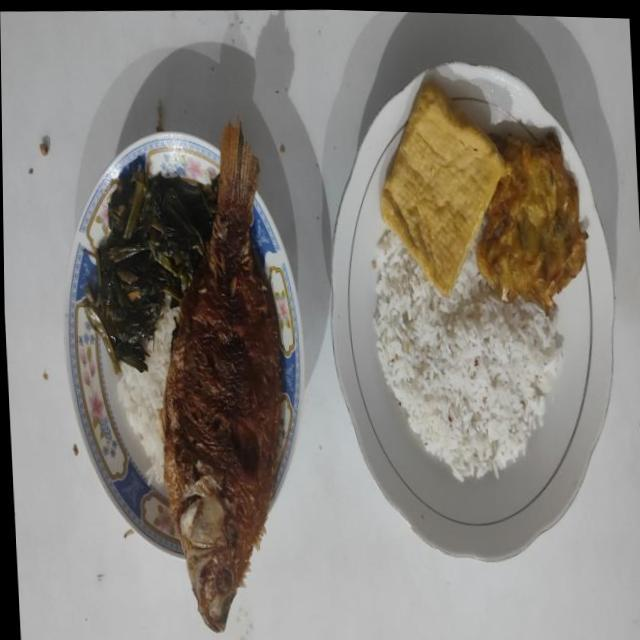ikan_mujair: (162, 123, 283, 632)
nasi_putih: (373, 228, 562, 481), (117, 296, 179, 482)
tahu_goreng: (380, 85, 504, 296)
tumis_kangkung: (84, 156, 217, 372)
